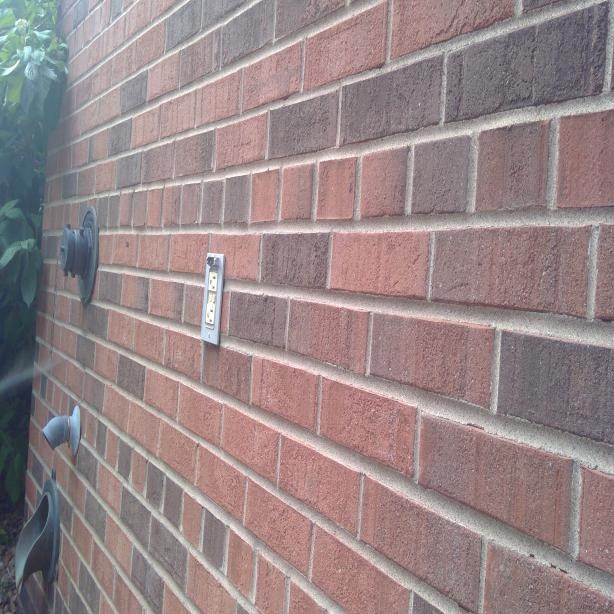typeb: (206, 269, 218, 292), (205, 306, 215, 326)
